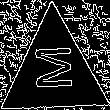M_W: (31, 48, 77, 96)
